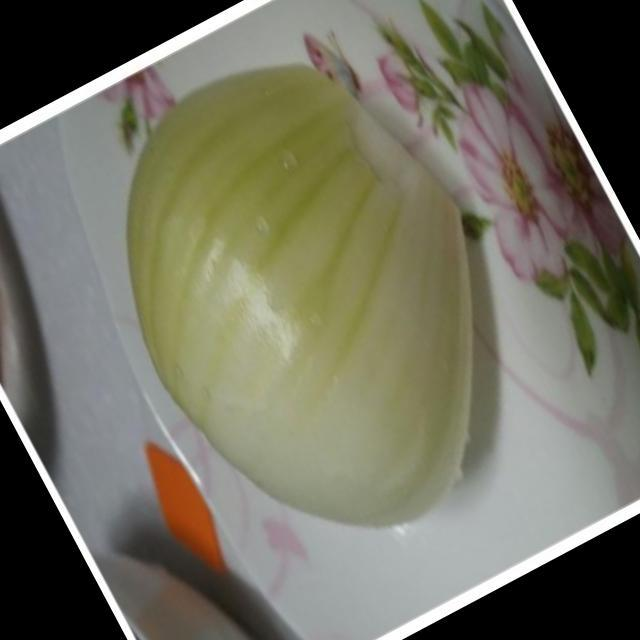Onion: (126, 65, 477, 533)
